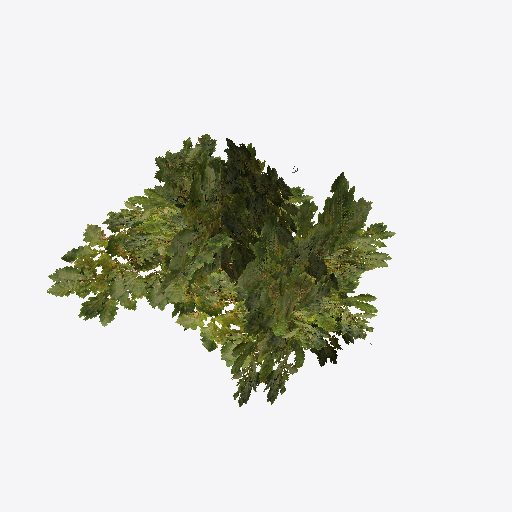
Isometric view (azimuth 45°, elevation 35.3°) of a Minecraft model made of 17 cuboids, textured from the same repository.
Parts seen in each view (by area): element 2, element 17, element 16, element 8, element 11, element 13, element 9, element 4, element 1, element 7, element 12, element 15.
Boxes of the visible parts, <box> form: element 2: <box>47,184,225,326</box>; element 17: <box>231,264,332,406</box>; element 16: <box>237,172,372,353</box>; element 8: <box>156,143,278,330</box>; element 11: <box>124,262,298,368</box>; element 13: <box>233,260,377,349</box>; element 9: <box>175,160,272,283</box>; element 4: <box>102,188,256,256</box>; element 1: <box>142,134,249,270</box>; element 7: <box>223,138,299,248</box>; element 12: <box>324,222,395,287</box>; element 15: <box>305,252,371,366</box>.
Size of the model in its own units: 42.75 by 39 by 49.84.